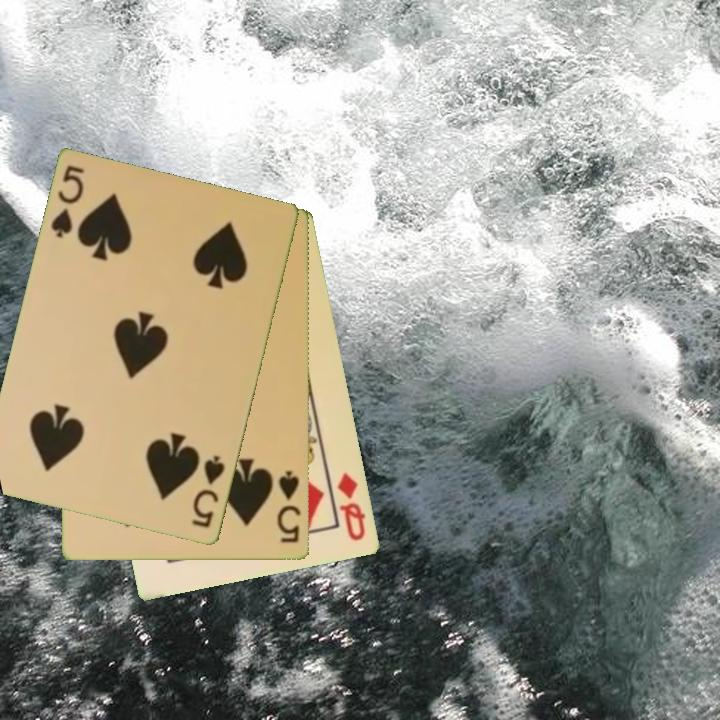5s: (47, 162, 88, 241), (189, 452, 228, 531), (274, 467, 304, 546)
Qd: (334, 469, 369, 544)
